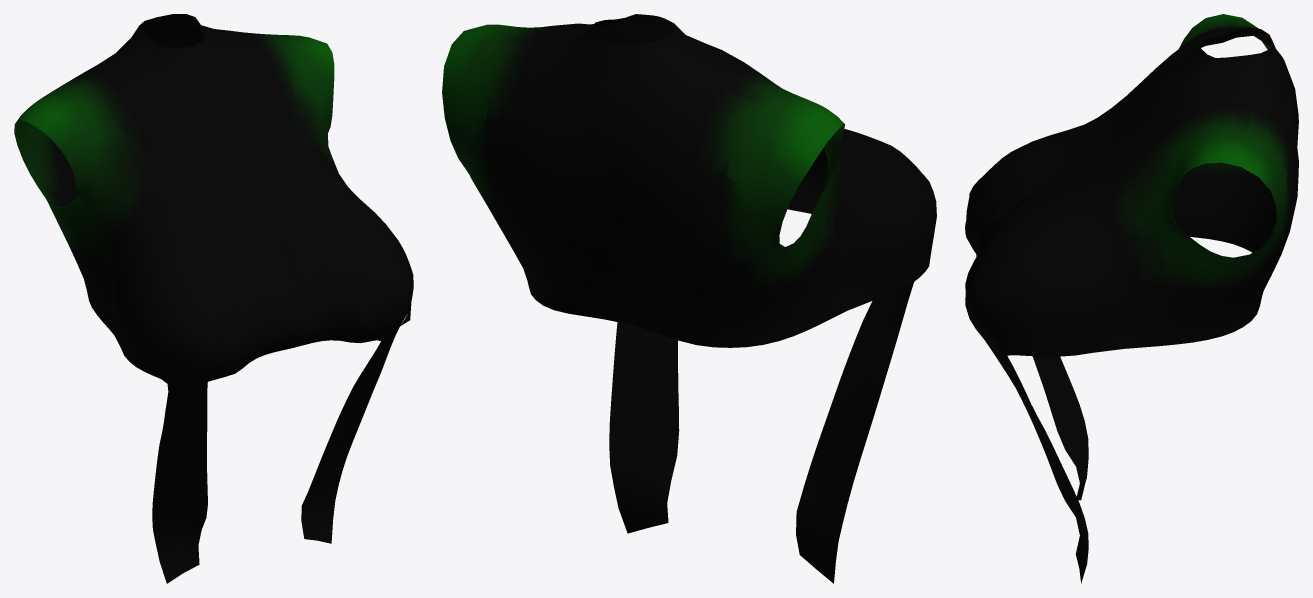
File: shirt.fbx
3 views of the same model, side by side, from view 1: azimuth 30°, elevation 25°; view 2: azimuth 150°, elevation 25°; view 3: azimuth 270°, elevation 25° (orthographic). The views are drawn at different scales.
Parts seen in each view (by area): view 1: Shirt; view 2: Shirt; view 3: Shirt.
Boxes of the visible parts, box(x1,y1,x2,y2) form: Shirt: box(14, 14, 413, 583); Shirt: box(442, 14, 936, 583); Shirt: box(965, 14, 1298, 583).
Bounding box in the file's own units: 29.72 × 45.59 × 27.53.
